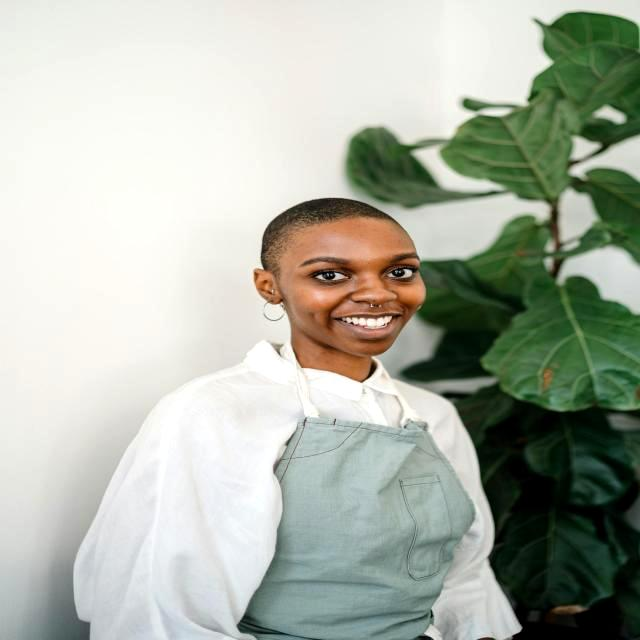no_head_wear: (261, 198, 408, 267)
person: (74, 198, 521, 640)
